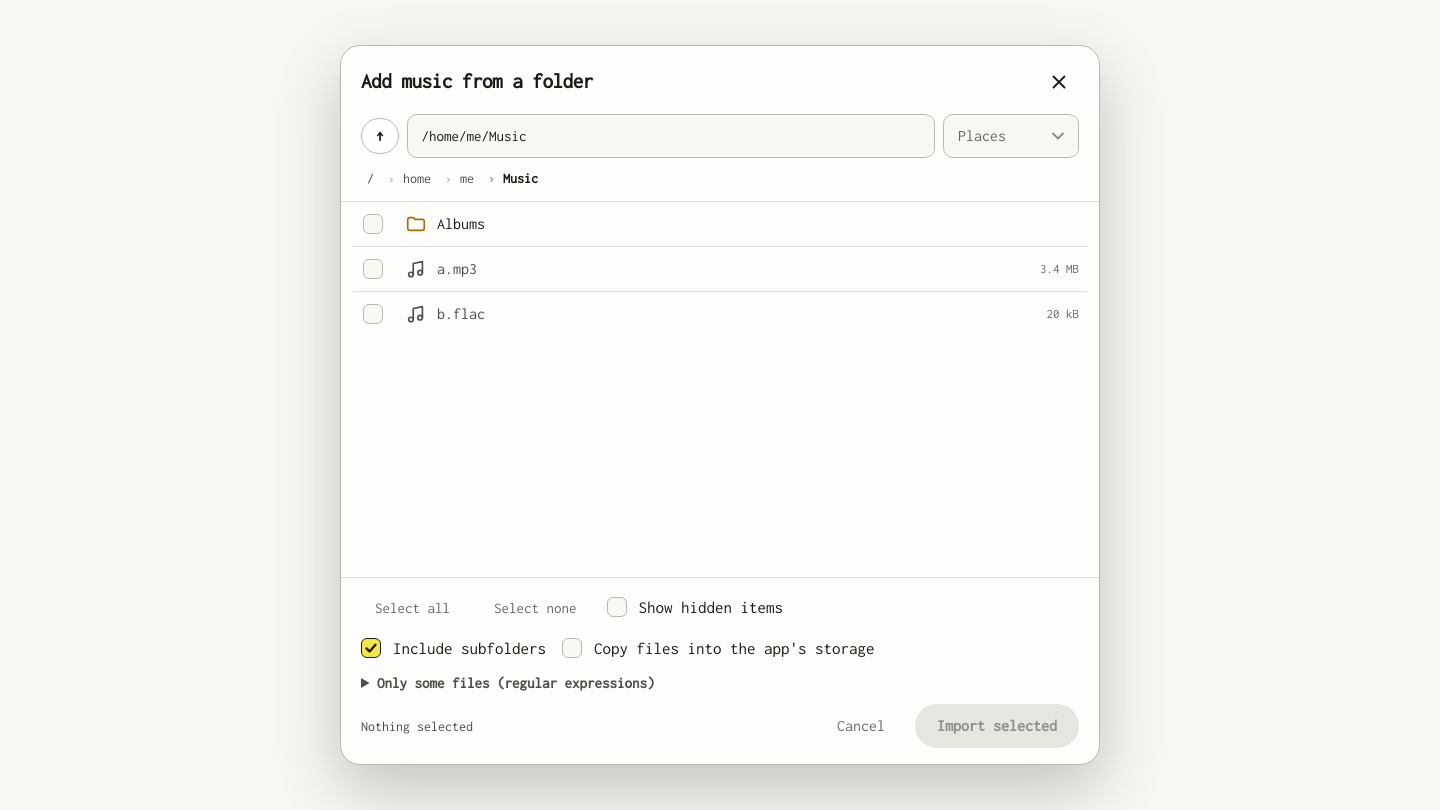
Test: FolderBrowser › shows a server error (a bad filter) and stays open
This screenshot has width=1440, height=810.
Expected: the text "a.mp3" is shown, [437,260,477,277]
Click the checkbox named "Select a.mp3" at (373, 269), box [363,259,383,279]
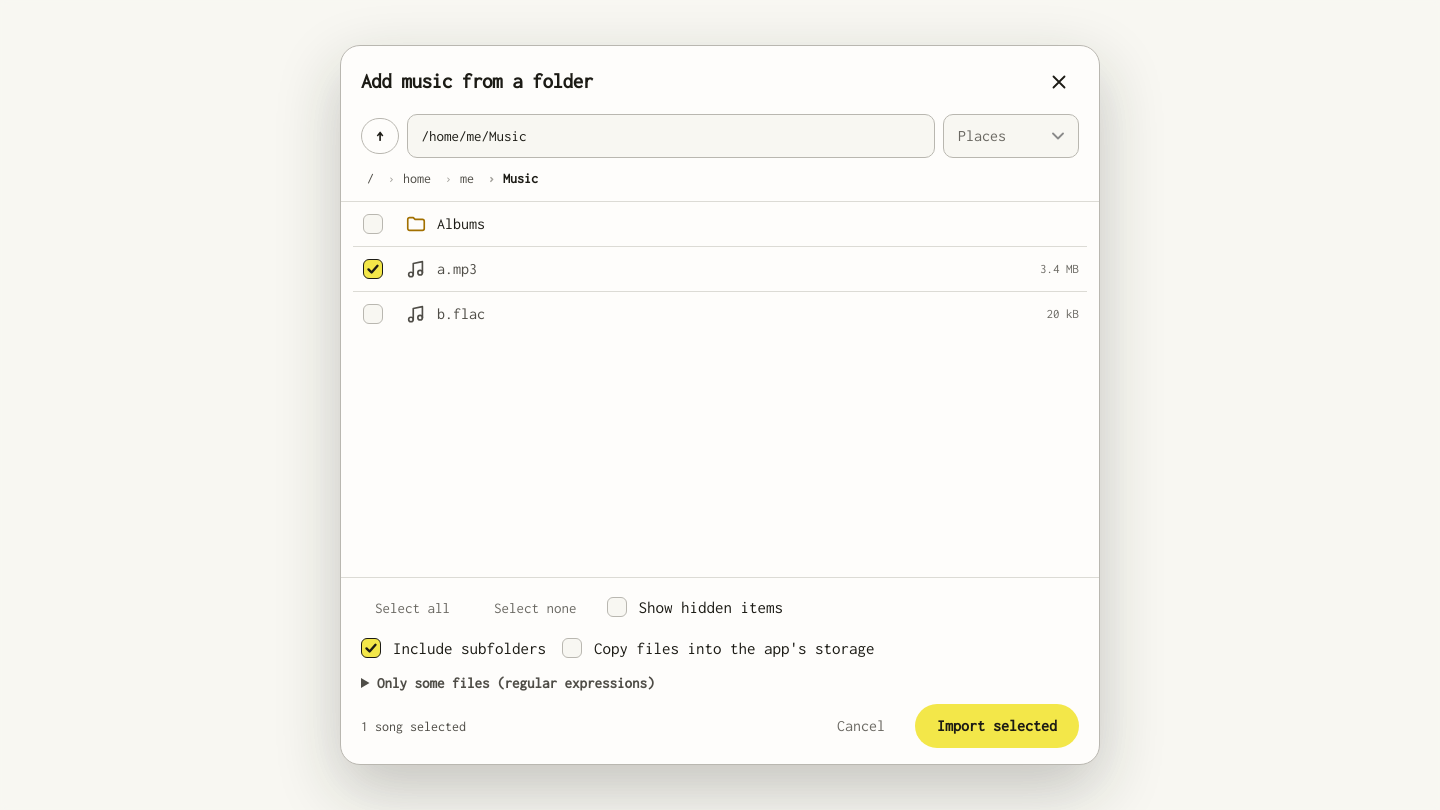
Click the button "Import selected" at (997, 726), box [915,704,1079,748]
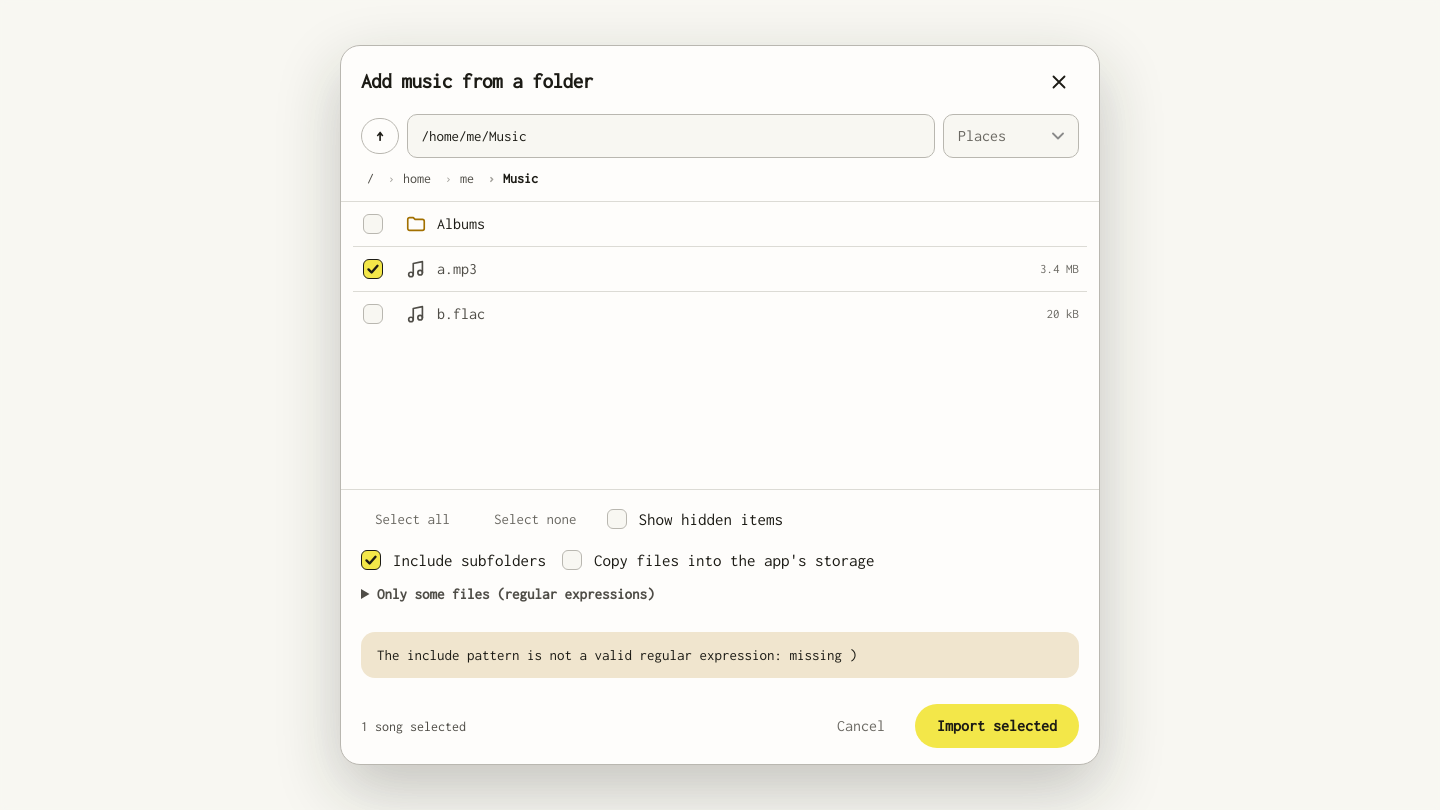
Result: the button "Import selected" is enabled at [915,704,1079,748]
Result: the message shows "not a valid regular expression" at [377,646,857,662]
